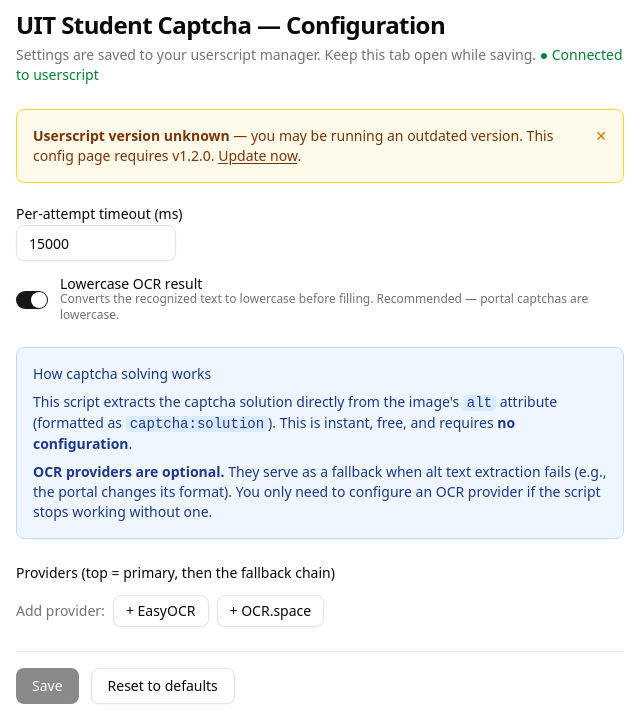
App › surfaces a uoc:error reply
The width and height of the screenshot is (641, 721).
Step 1. Replace the text in the number field labelled "Per-attempt timeout (ms)" with "20000" → [96, 243], box [16,225,176,261]
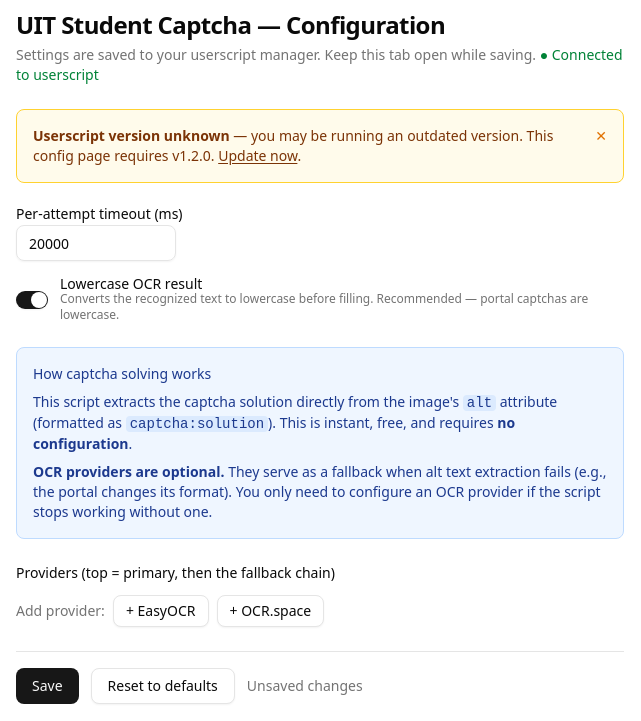
Step 2. Click the button "Save" → [47, 686], box [16,668,79,704]
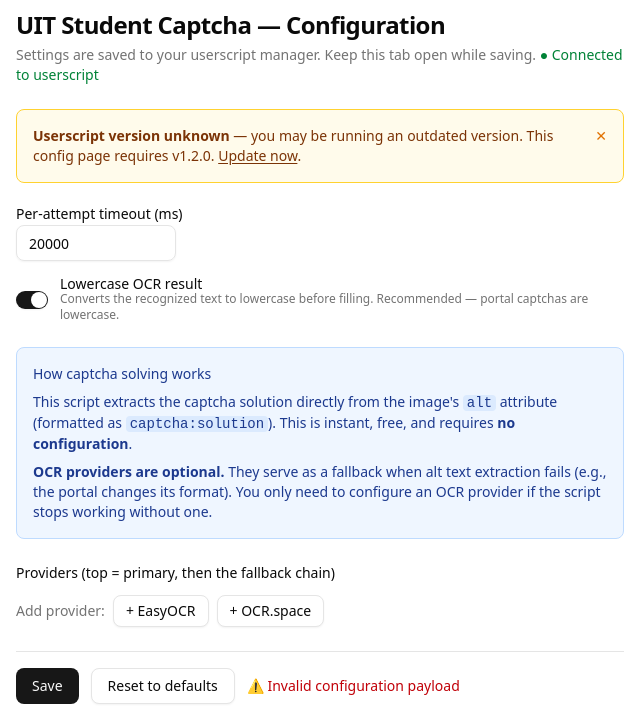
Expected: the text "⚠ Invalid configuration payload" is shown, [247,676,460,696]
